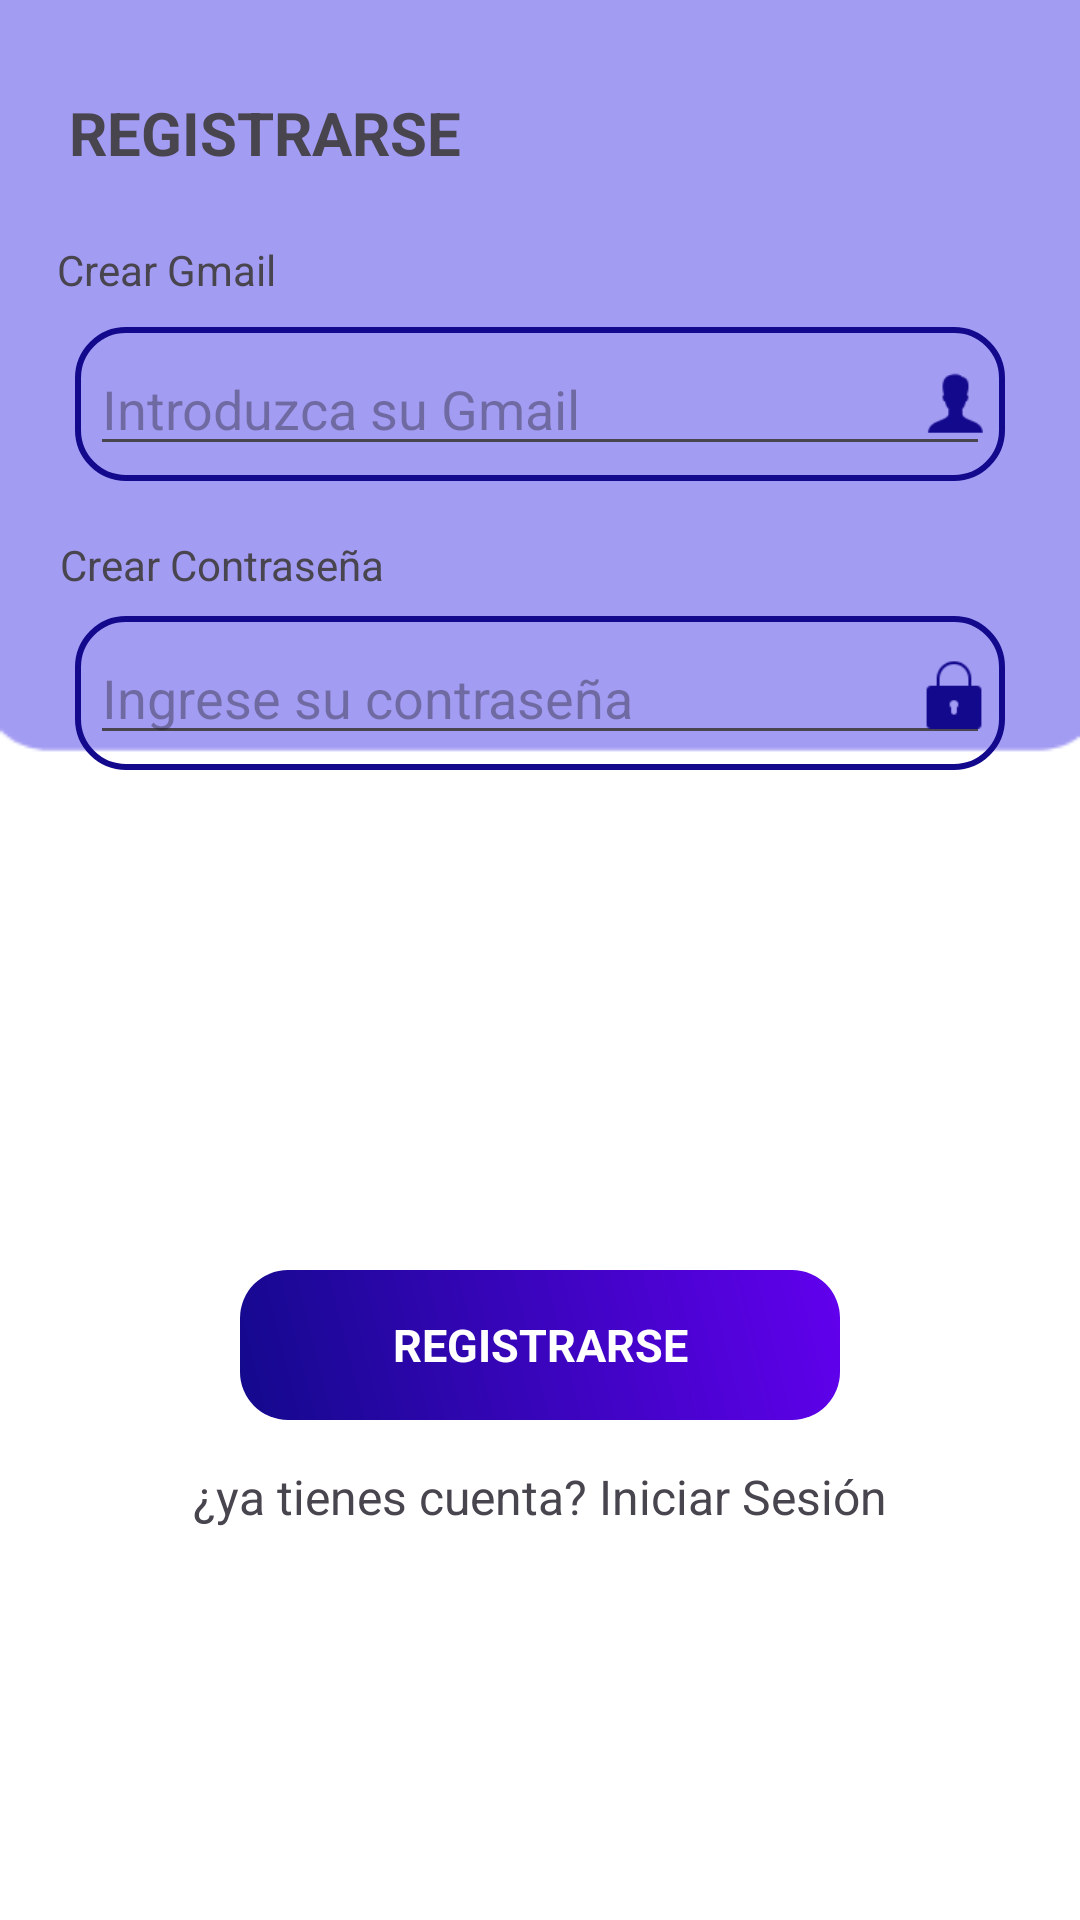

Icons on this 1080px x 1920px Android screen, each with the point to tap as point (x, y):
lock: point (950, 695)
persona: point (955, 403)
